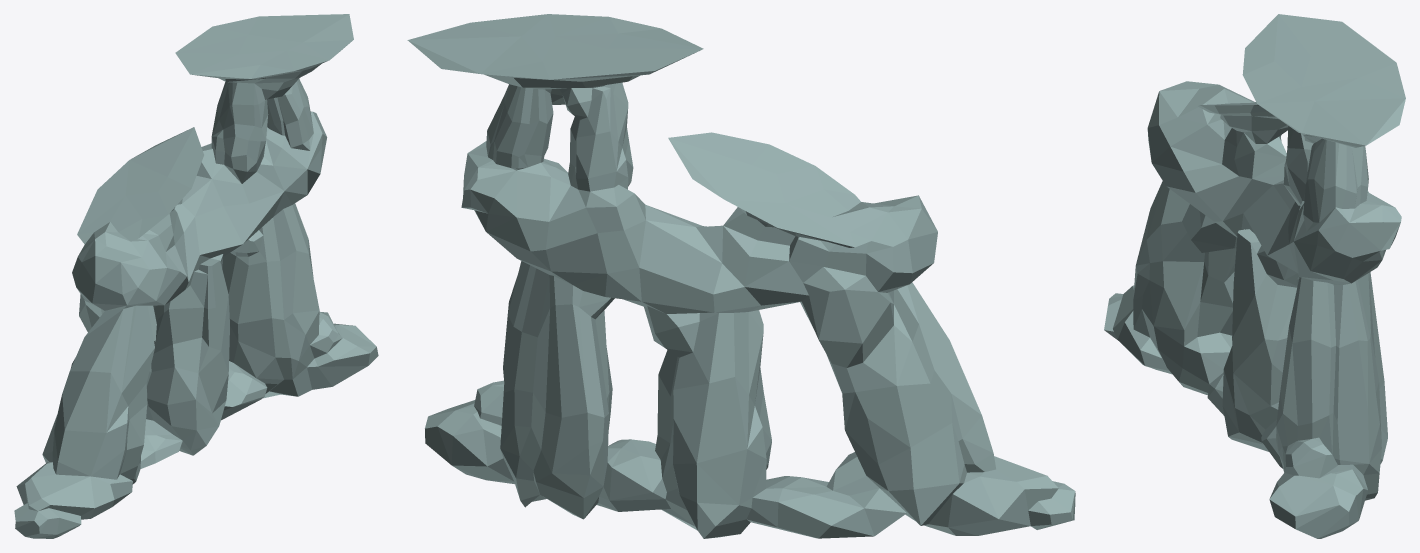
Rendered from HolePillar2.fbx.
3 renders of one model, left to right at view 1: azimuth 30°, elevation 25°; view 2: azimuth 150°, elevation 25°; view 3: azimuth 270°, elevation 25°, orthographic. The views are drawn at different scales.
Parts seen in each view (by area): view 1: HolePillar2; view 2: HolePillar2; view 3: HolePillar2.
Boxes of the visible parts, x1,y1,x2,y2 form: HolePillar2: (14, 14, 378, 538); HolePillar2: (407, 14, 1075, 538); HolePillar2: (1104, 14, 1405, 538).
Size of the model in its own units: 66819 by 55167 by 34039.
